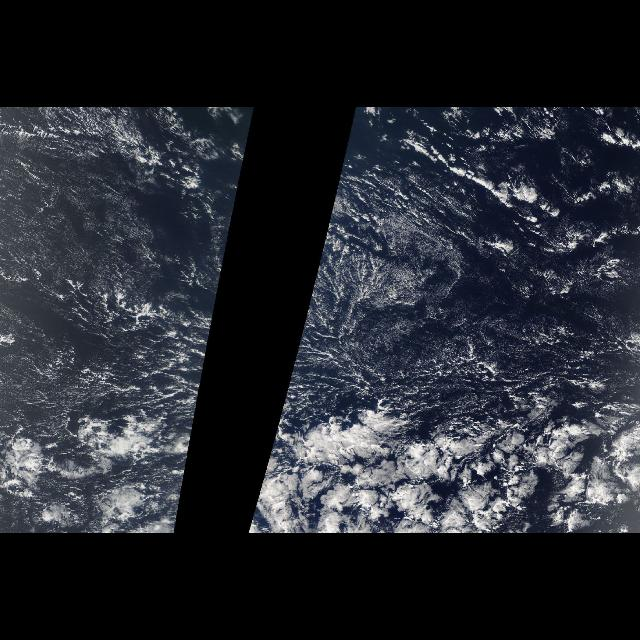Fish: (284, 233, 594, 412)
Flower: (378, 421, 638, 509)
Gravel: (406, 115, 604, 225)
Sugar: (0, 108, 236, 422), (286, 187, 536, 397)
